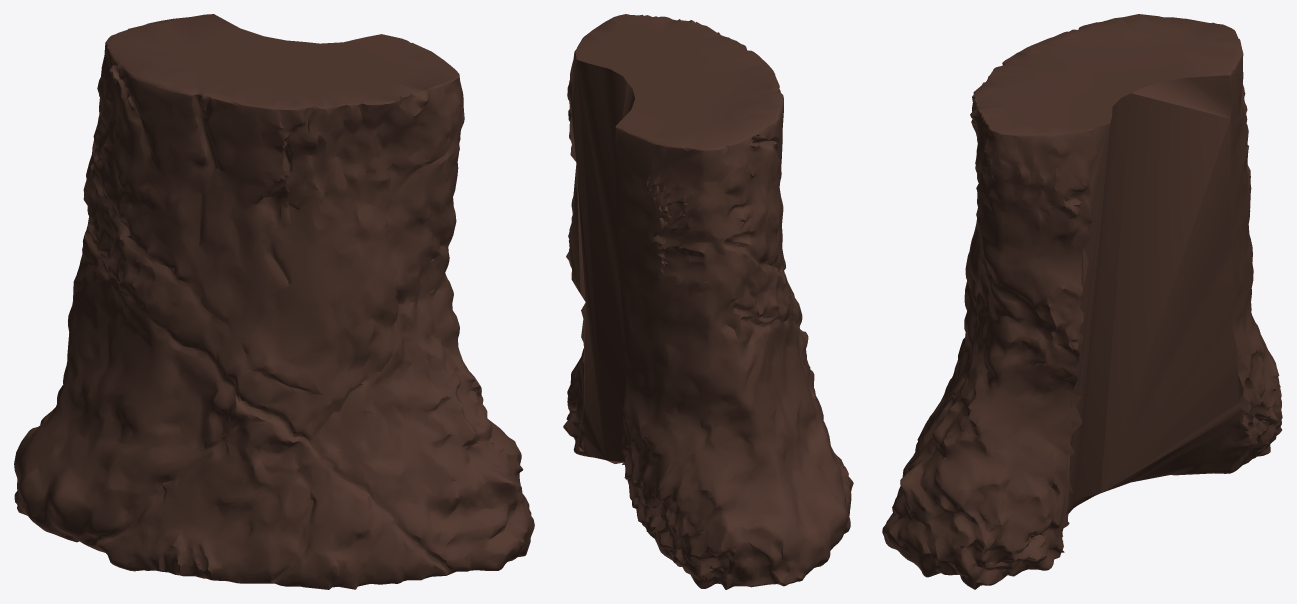
File: Wall_Bend_90In.fbx
3 views of the same model, side by side, from view 1: azimuth 30°, elevation 25°; view 2: azimuth 150°, elevation 25°; view 3: azimuth 270°, elevation 25° (orthographic). The views are drawn at different scales.
Visible parts, largest first — view 1: Wall_Bend_90In; view 2: Wall_Bend_90In; view 3: Wall_Bend_90In.
Part boxes in pixels (x1,y1,x2,y2): Wall_Bend_90In: [14, 14, 534, 589]; Wall_Bend_90In: [563, 14, 853, 589]; Wall_Bend_90In: [882, 14, 1282, 589].
Size of the model in its own units: 1350 by 1598 by 1301.
Materials: 1 (1 with a texture image).
